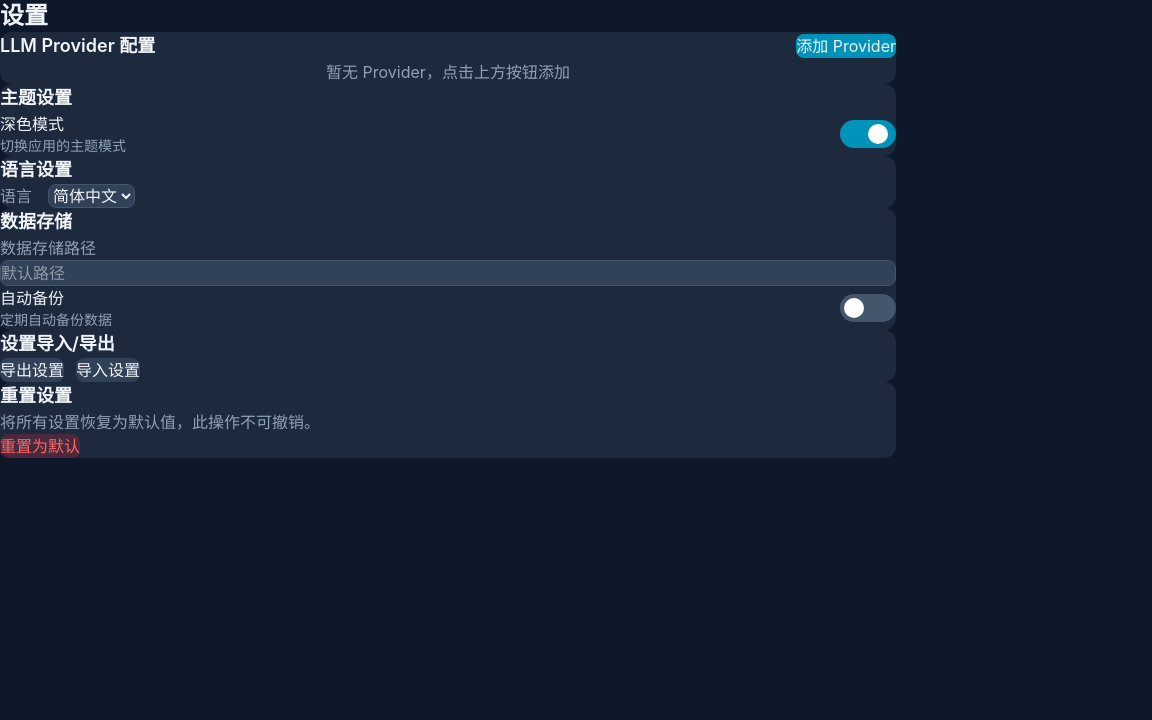
Settings Page › LLM Provider configuration › opens add dialog when clicking add button
Click the button "添加 Provider" at (846, 46), box [796,34,896,58]
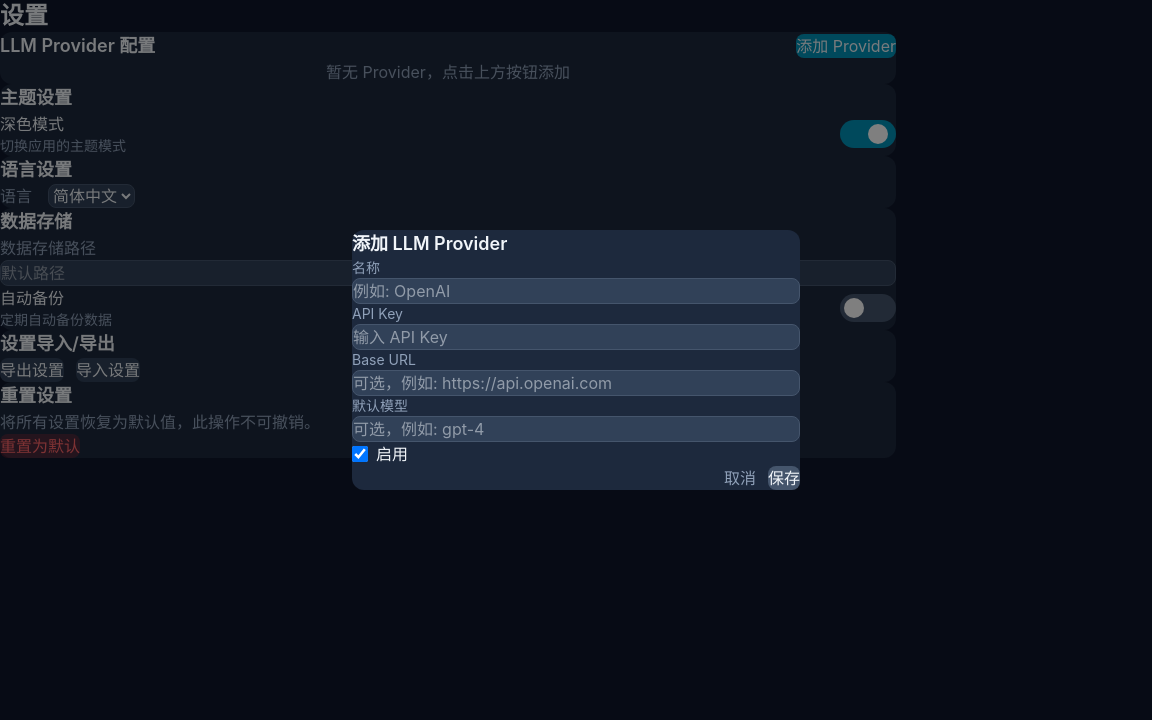
Check: the heading "添加 LLM Provider" is shown, box [352,233,507,254]
